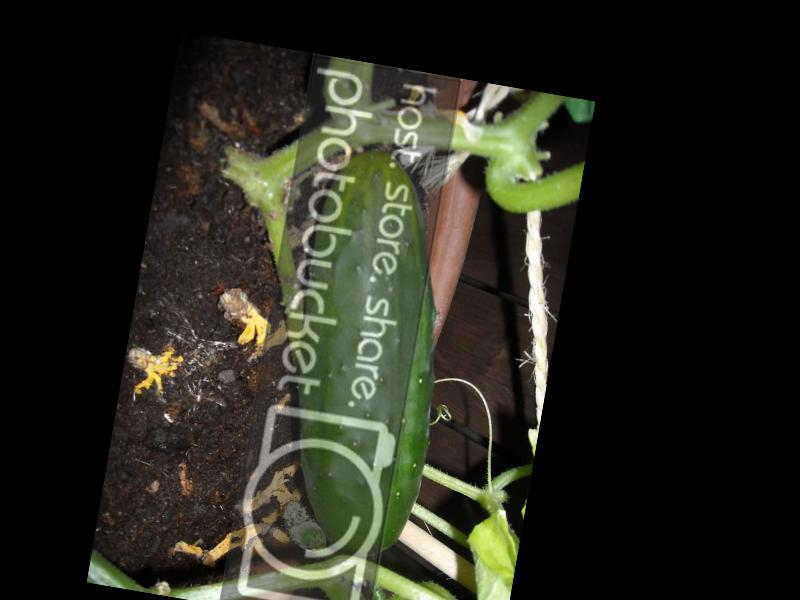Cucumber: (260, 142, 474, 561)
